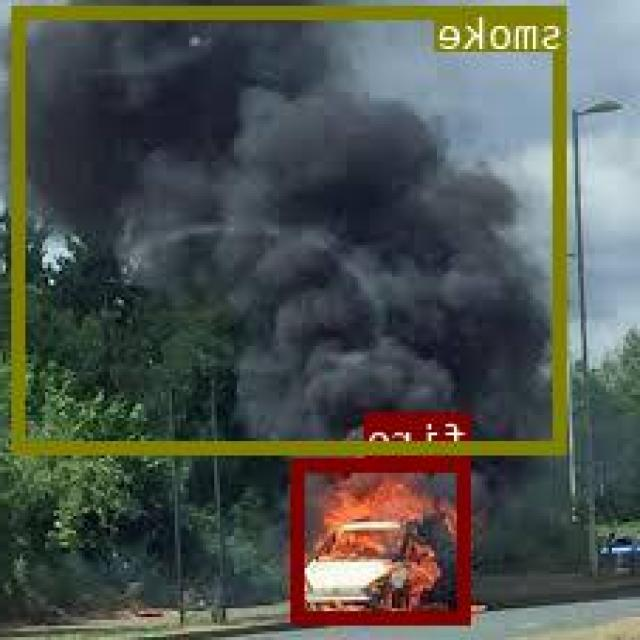fire: (294, 458, 472, 621)
smoke: (15, 4, 568, 452)
